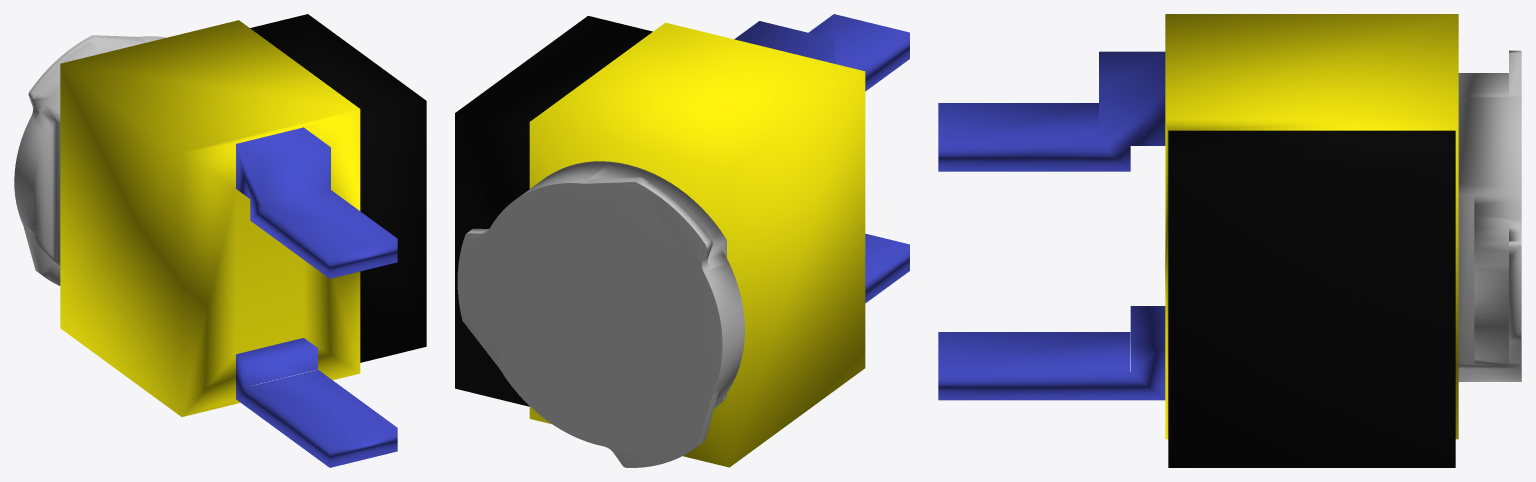
Rendered from hand.dae.
The picture shows the model from 3 angles, left to right: view 1: azimuth 30°, elevation 25°; view 2: azimuth 150°, elevation 25°; view 3: azimuth 270°, elevation 25°; orthographic projection. The views are drawn at different scales.
Visible parts, largest first — view 1: transform1; view 2: transform1; view 3: transform1.
Boxes of the visible parts, x1,y1,x2,y2 form: transform1: [14, 14, 426, 467]; transform1: [455, 14, 909, 467]; transform1: [938, 14, 1521, 467].
Bounding box in the file's own units: 0.118 × 0.112 × 0.185.
1 material, 1 textured.
